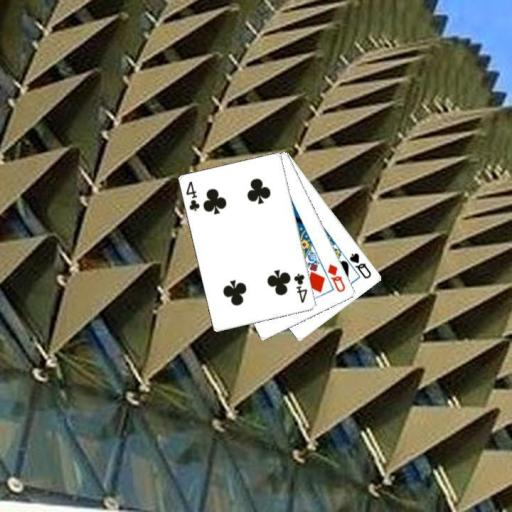4C: (183, 178, 201, 213), (291, 271, 309, 305)
QD: (324, 261, 347, 294)
QS: (346, 250, 373, 280)
